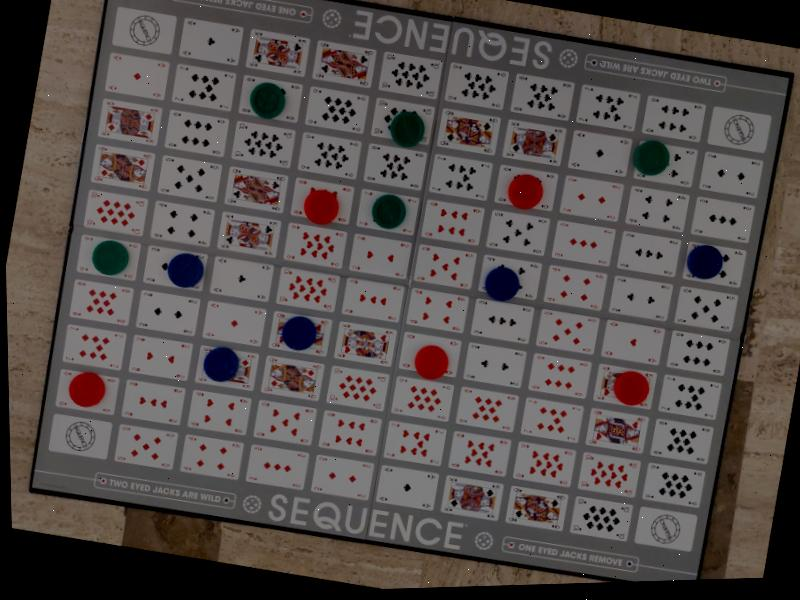Blue_Token: (161, 246, 209, 294), (87, 234, 134, 281), (681, 239, 728, 286), (276, 311, 321, 356), (197, 341, 242, 386), (479, 262, 524, 306)
Board: (5, 0, 800, 600)
Green_Token: (244, 77, 289, 125), (385, 107, 430, 153), (627, 136, 673, 180), (63, 367, 109, 411), (367, 189, 411, 234)
Red_Token: (503, 168, 550, 216), (297, 185, 342, 229), (409, 339, 452, 385), (609, 367, 653, 409)
